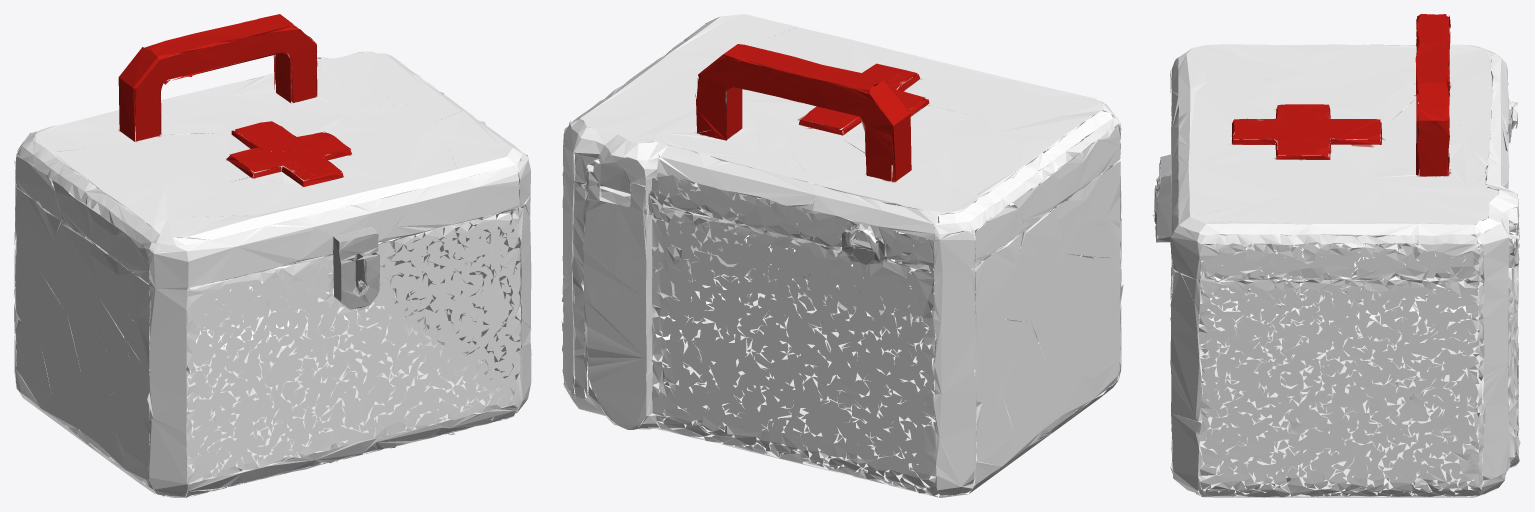
File: item.medkit.glb
The picture shows the model from 3 angles, left to right: view 1: azimuth 30°, elevation 25°; view 2: azimuth 150°, elevation 25°; view 3: azimuth 270°, elevation 25°; orthographic projection. The views are drawn at different scales.
Parts seen in each view (by area): view 1: geometry_0; view 2: geometry_0; view 3: geometry_0.
Part boxes in pixels (bbox=[...]): geometry_0: bbox=[14, 14, 531, 497]; geometry_0: bbox=[561, 14, 1123, 497]; geometry_0: bbox=[1153, 14, 1520, 497].
Size of the model in its own units: 1.02 by 0.862 by 0.8047.
Materials: 1 (1 with a texture image).
